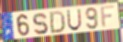6: (15, 13, 31, 38)
9: (85, 6, 99, 30)
D: (49, 10, 66, 35)
F: (100, 4, 117, 30)
S: (31, 12, 49, 36)
U: (67, 8, 83, 32)
